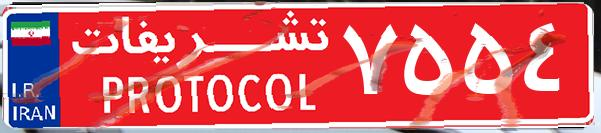4: (520, 20, 580, 115)
5: (400, 20, 460, 115), (460, 20, 520, 115)
7: (340, 20, 400, 115)
تشریفات: (60, 8, 340, 125)
